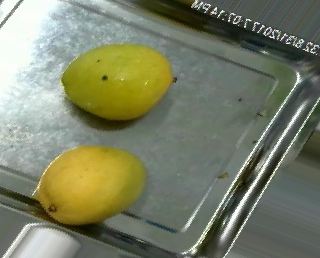Mango: (33, 145, 156, 229), (57, 41, 179, 125)
